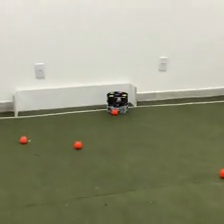ball: (73, 138, 83, 150), (19, 133, 29, 144), (217, 166, 224, 180), (111, 107, 118, 115)
goal: (12, 81, 138, 118)
robot: (106, 89, 129, 115)
